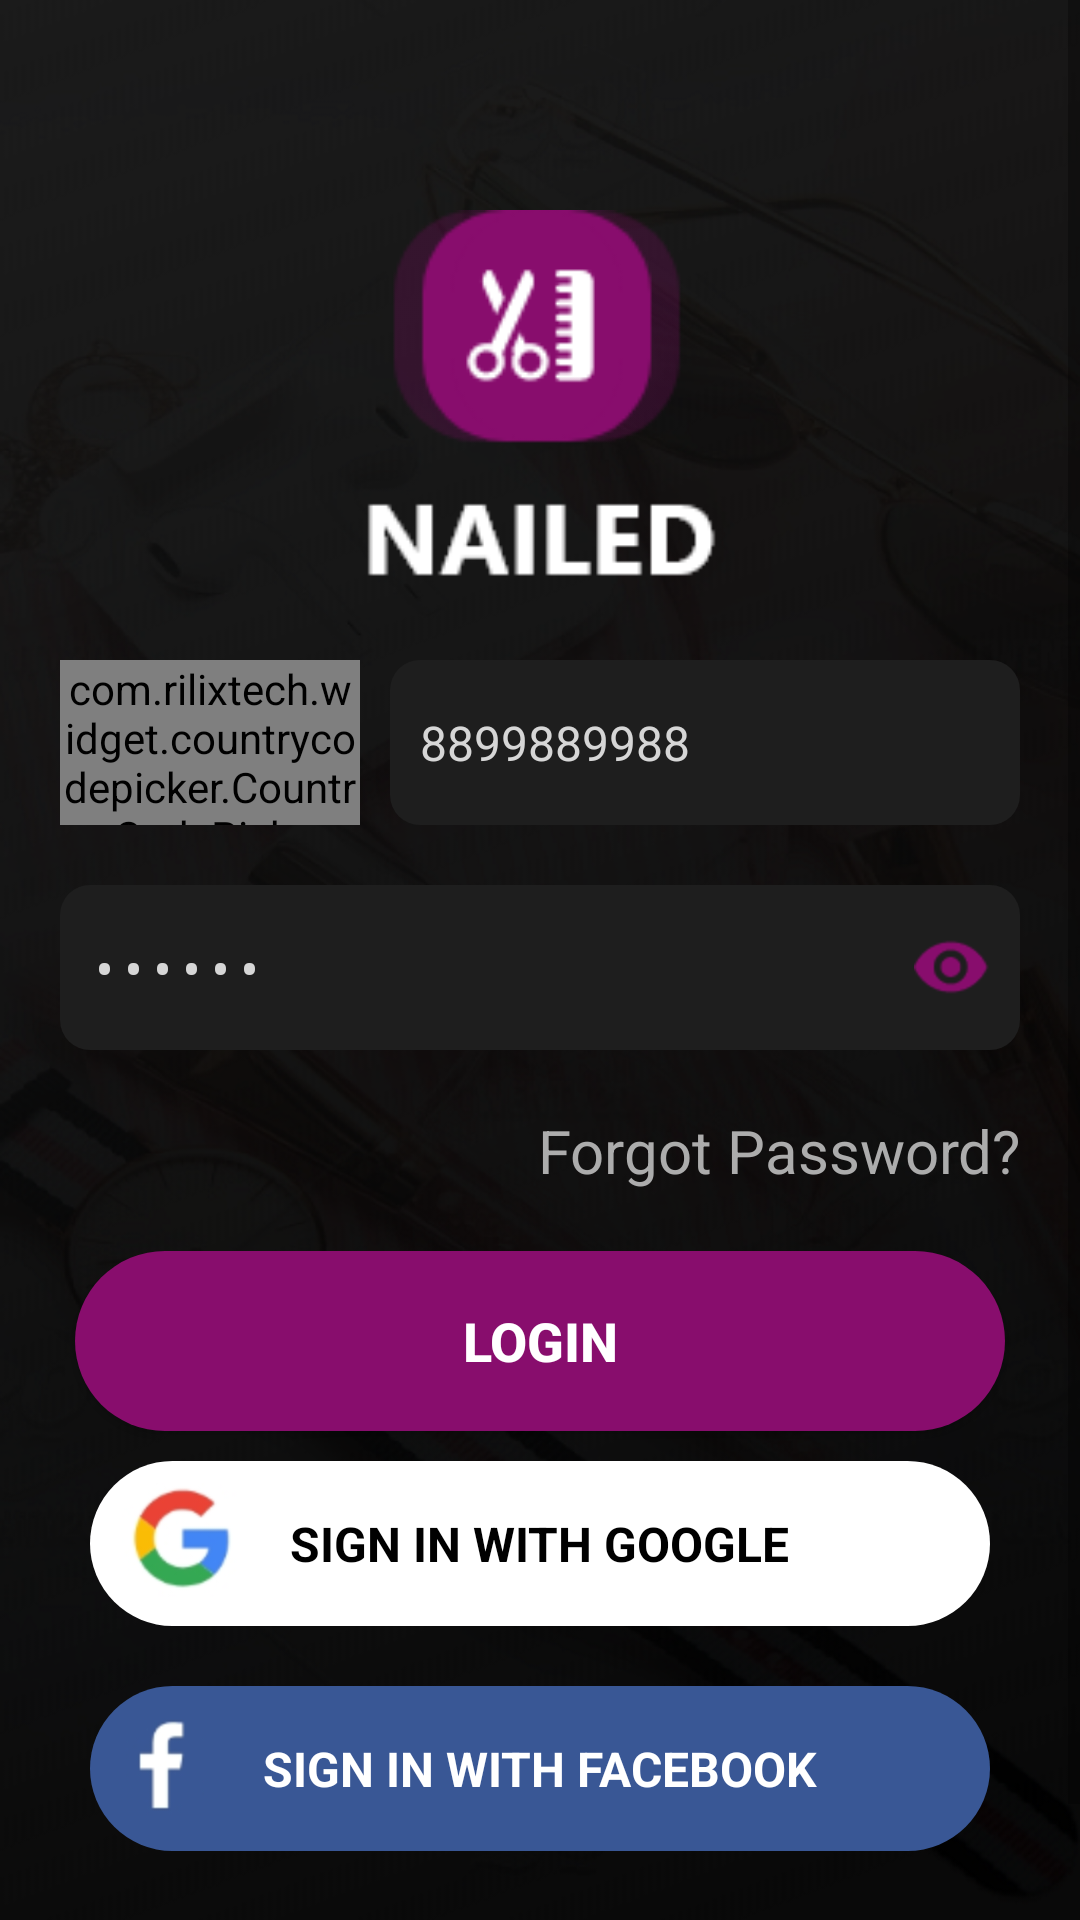

Icon bounding boxes for this 1080 × 1920 phone screenshot, format (x1, y1, x2, y2):
eye: (914, 941, 988, 993)
